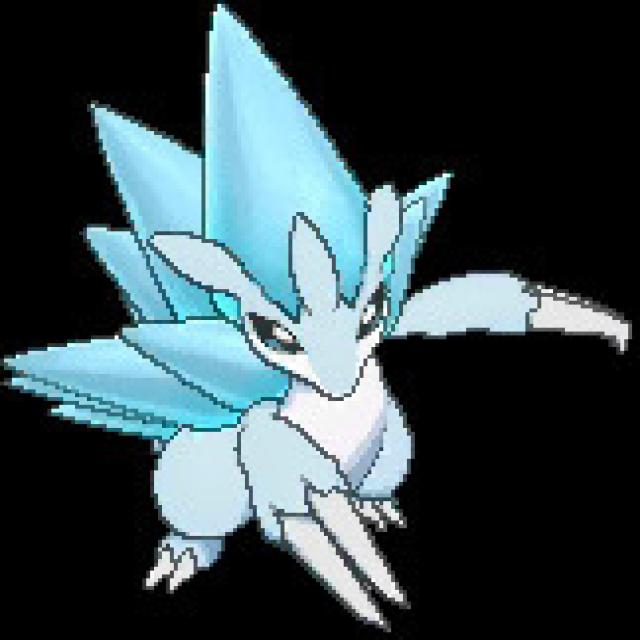Alolan: (54, 39, 460, 612)
